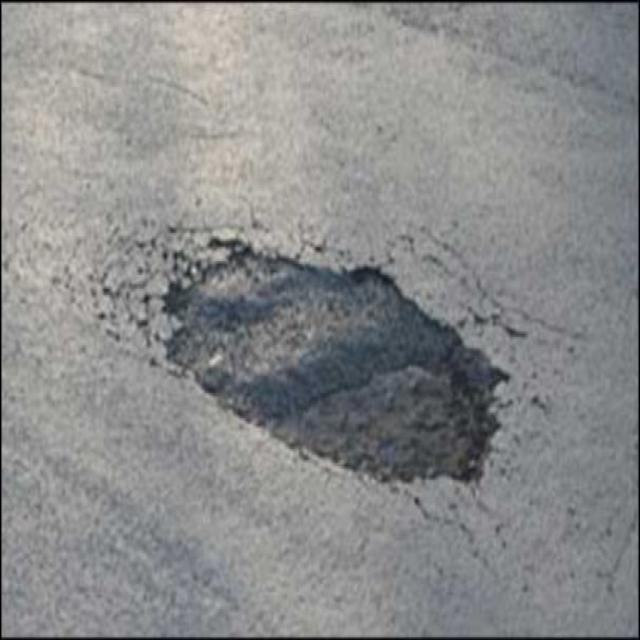Pothole: (160, 230, 518, 493)
